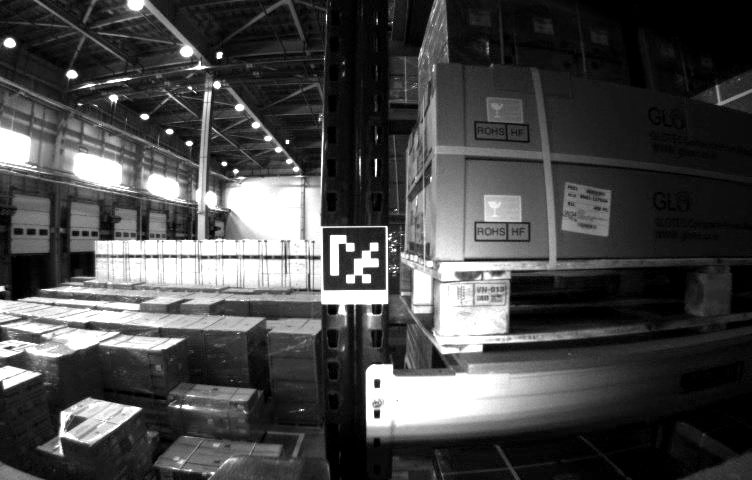True Barcode: (561, 183, 609, 241)
